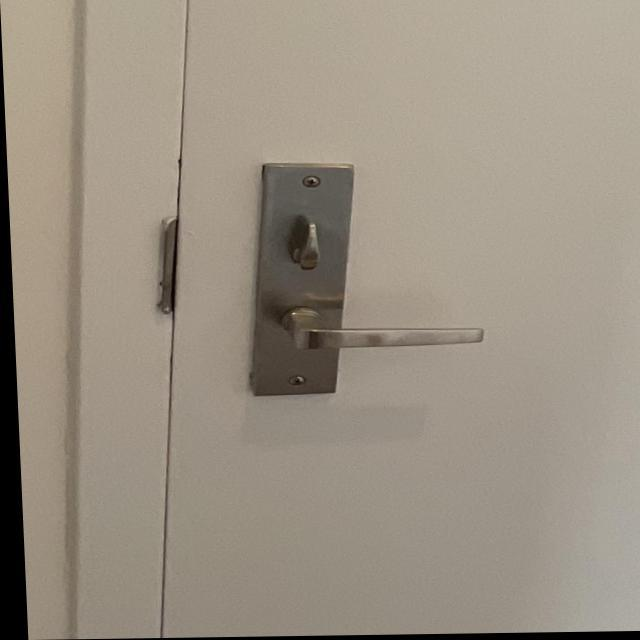door_handle: (253, 298, 494, 367)
